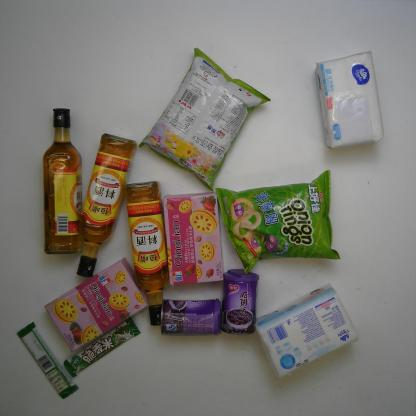Canned Food: (159, 298, 222, 336), (222, 269, 258, 334)
Chocolate: (16, 322, 78, 400), (63, 317, 140, 378)
Dessert: (45, 257, 149, 352), (161, 189, 226, 287)
Puffed Food: (137, 48, 272, 192), (215, 169, 341, 277)
Seasoner: (76, 132, 136, 278), (124, 181, 174, 326), (43, 107, 82, 255)
Tissue: (255, 284, 358, 380), (314, 50, 384, 150)
